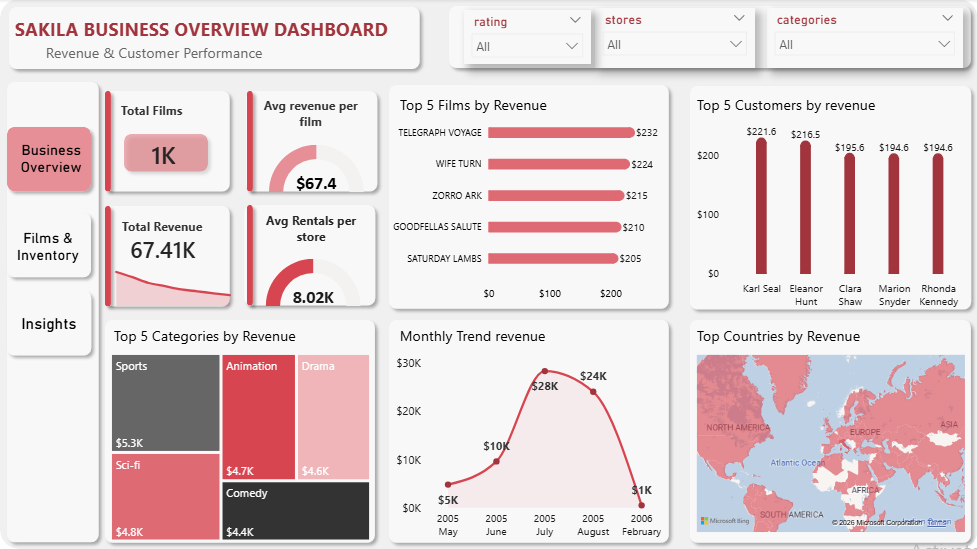

Layout of this report page (visuals, bound fields, positions):
{"tool":"powerbi","page":{"name":"business overview ","canvas":[1280,720],"ordinal":0},"visuals":[{"type":"shape","box":[0,0,1280.2,720],"z":0},{"type":"shape","box":[2.9,1.4,555.8,99.4],"z":1000},{"type":"shape","box":[0,99.4,138.2,620.6],"z":2000},{"type":"shape","box":[894.2,410.4,385.9,309.6],"z":3000},{"type":"shape","box":[893.6,104.1,386.4,310.8],"z":4000},{"type":"shape","box":[499.7,103.7,384.5,311],"z":5000},{"type":"shape","box":[499.7,410.4,384.5,309.6],"z":6000},{"type":"shape","box":[128.2,410.4,371.5,309.6],"z":7000},{"type":"shape","box":[128.2,262.1,181.4,149.8],"z":8000},{"type":"shape","box":[309.6,260.6,190.1,149.8],"z":9000},{"type":"shape","box":[312.5,110.9,190.1,149.8],"z":10000},{"type":"shape","box":[128.2,110.9,181.4,149.8],"z":11000},{"type":"textbox","box":[14.4,17.3,544.3,64.8],"z":12000},{"type":"shape","box":[0,158.4,128.2,102.2],"z":13000},{"type":"shape","box":[0,372.7,128.6,102.6],"z":14000},{"type":"textbox","box":[152.6,129.6,108,37.4],"z":15000},{"type":"shape","box":[128.2,110.9,25.9,149.8],"z":16000},{"type":"shape","box":[313.9,260.6,25.9,149.8],"z":17000},{"type":"shape","box":[128.2,262.1,25.9,149.8],"z":18000},{"type":"shape","box":[313.9,110.9,25.9,149.8],"z":19000},{"type":"textbox","box":[339.8,273.6,133.9,51.8],"z":20000},{"type":"textbox","box":[154.1,280.8,133.9,37.4],"z":21000},{"type":"textbox","box":[331.2,122.4,151.2,54.7],"z":22000},{"type":"cardVisual","fields":{"Data":["actor.FilmRevenue"]},"box":[144,299.8,166.3,68.1],"z":23000},{"type":"lineChart","fields":{"Y":["Sum(payment.amount)"],"Category":["date table.month name","date table.year"]},"box":[512.6,460.8,357.1,259.2],"z":24000},{"type":"columnChart","fields":{"Category":["customer.full name"],"Y":["Sum(payment.amount)"]},"box":[907.2,149.1,372.8,262.7],"z":25000},{"type":"barChart","fields":{"Category":["payment_sql.title"],"Y":["Sum(payment_sql.revenue)"]},"box":[506.9,129.6,377.3,273.6],"z":26000},{"type":"donutChart","fields":{"Category":["country_sql.country"],"Y":["Sum(country_sql.revenue)"]},"box":[133.9,423.4,368.6,296.6],"z":27000},{"type":"lineChart","fields":{"Category":["payment_sql.title"],"Y":["Sum(payment_sql.revenue)"]},"box":[138.2,337,175.7,70.6],"z":28000},{"type":"gauge","fields":{"Y":["actor.avg revenue per film"]},"box":[315.4,185.8,197.3,72],"z":29000},{"type":"gauge","fields":{"Y":["actor.avg rentals per store"]},"box":[321.1,335.5,178.6,72],"z":30000},{"type":"shape","box":[152.6,167,128.2,67.7],"z":31000},{"type":"cardVisual","fields":{"Data":["CountNonNull(film.title)"]},"box":[168.9,167.6,119.1,65.5],"z":32000},{"type":"treemap","fields":{"Group":["category.name"],"Values":["Sum(payment.amount)"]},"box":[141.1,460.8,347,252],"z":33000},{"type":"textbox","box":[54.7,51.8,325.4,37.4],"z":34000},{"type":"textbox","box":[518.4,121,260.6,37.4],"z":35000},{"type":"textbox","box":[518.4,423.4,260.6,37.4],"z":36000},{"type":"textbox","box":[144,423.4,260.6,37.4],"z":37000},{"type":"textbox","box":[907.2,423.4,260.6,37.4],"z":38000},{"type":"shape","box":[578.7,0,701.3,99.4],"z":39000},{"type":"textbox","box":[907.2,121,260.6,37.4],"z":40000},{"type":"slicer","fields":{"Values":["film.rating"]},"box":[607.7,14.4,165.6,70.6],"z":41000},{"type":"slicer","fields":{"Values":["store.store_id"]},"box":[789.4,11.8,209.5,77.2],"z":42000},{"type":"slicer","fields":{"Values":["category.name"]},"box":[1003.7,11.5,256.3,77.8],"z":43000},{"type":"shape","box":[0,270.7,128.2,102.2],"z":44000},{"type":"textbox","title":"Business Overview","box":[0,186.4,134.4,76.6],"z":45000},{"type":"actionButton","box":[13,286,99.7,73.7],"z":46000},{"type":"actionButton","box":[14.4,404.5,99.7,40.5],"z":47000},{"type":"filledMap","fields":{"Category":["country.country"]},"box":[907.2,460.8,361.4,241.9],"z":48000}]}

Visuals, with their boxes in screenshot pixels (x1, y1, x2, y2), scaled from the page's 1280x720 canvas onto the 977x549 screenshot:
shape: 0 0 976 548
shape: 2 1 426 77
shape: 0 76 105 548
shape: 683 313 976 548
shape: 682 79 976 316
shape: 381 79 675 316
shape: 381 313 675 548
shape: 98 313 381 548
shape: 98 200 236 314
shape: 236 199 381 313
shape: 239 85 384 199
shape: 98 85 236 199
textbox: 11 13 426 63
shape: 0 121 98 199
shape: 0 284 98 362
textbox: 116 99 199 127
shape: 98 85 118 199
shape: 240 199 259 313
shape: 98 200 118 314
shape: 240 85 259 199
textbox: 259 209 362 248
textbox: 118 214 220 243
textbox: 253 93 368 135
cardVisual - actor.FilmRevenue: 110 229 237 281
lineChart - Sum(payment.amount) x date table.month name: 391 351 664 548
columnChart - customer.full name x Sum(payment.amount): 692 114 976 314
barChart - payment_sql.title x Sum(payment_sql.revenue): 387 99 675 307
donutChart - country_sql.country x Sum(country_sql.revenue): 102 323 384 548
lineChart - payment_sql.title x Sum(payment_sql.revenue): 105 257 240 311
gauge - actor.avg revenue per film: 241 142 391 197
gauge - actor.avg rentals per store: 245 256 381 311
shape: 116 127 214 179
cardVisual - CountNonNull(film.title): 129 128 220 178
treemap - category.name x Sum(payment.amount): 108 351 373 544
textbox: 42 39 290 68
textbox: 396 92 595 121
textbox: 396 323 595 351
textbox: 110 323 309 351
textbox: 692 323 891 351
shape: 442 0 976 76
textbox: 692 92 891 121
slicer - film.rating: 464 11 590 65
slicer - store.store_id: 603 9 762 68
slicer - category.name: 766 9 962 68
shape: 0 206 98 284
"Business Overview" textbox: 0 142 103 201
actionButton: 10 218 86 274
actionButton: 11 308 87 339
filledMap - country.country: 692 351 968 536
